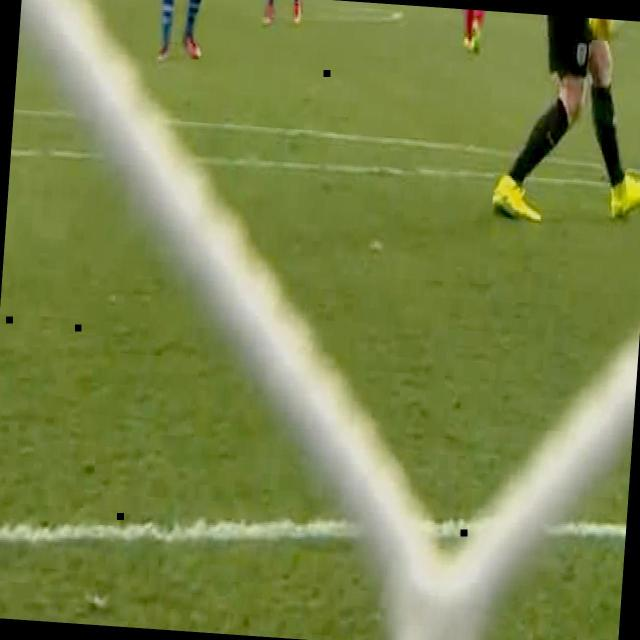ball: (587, 18, 625, 34)
player-white: (490, 12, 640, 232), (148, 0, 212, 62), (452, 9, 500, 55), (258, 0, 307, 26)
